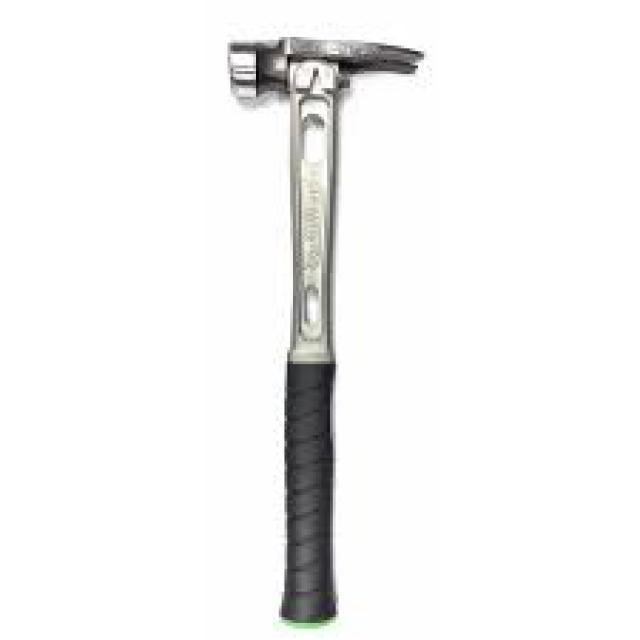Palu: (220, 16, 414, 637)
